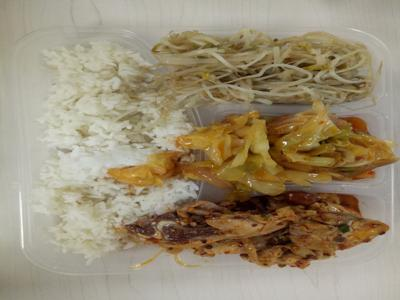j1: (155, 185, 386, 274)
rice: (31, 43, 201, 206)
